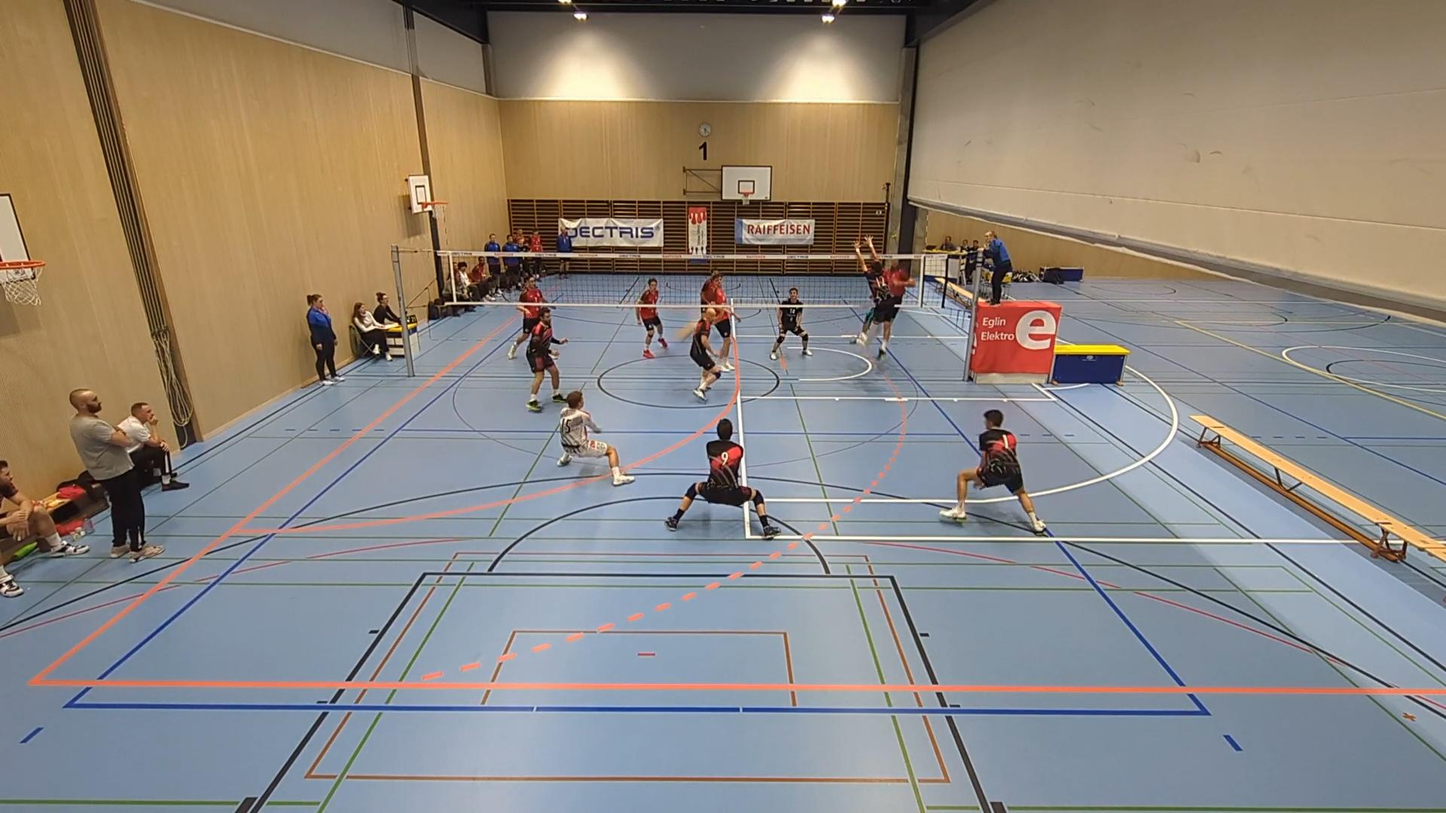Attack: (873, 254, 919, 360)
Block: (849, 233, 908, 360)
Dig: (554, 388, 630, 487)
Player: (664, 419, 779, 538), (941, 410, 1045, 534), (0, 460, 89, 597), (526, 308, 567, 411), (700, 270, 734, 371), (689, 307, 723, 399), (507, 279, 545, 359), (770, 288, 811, 359), (636, 278, 667, 359)
